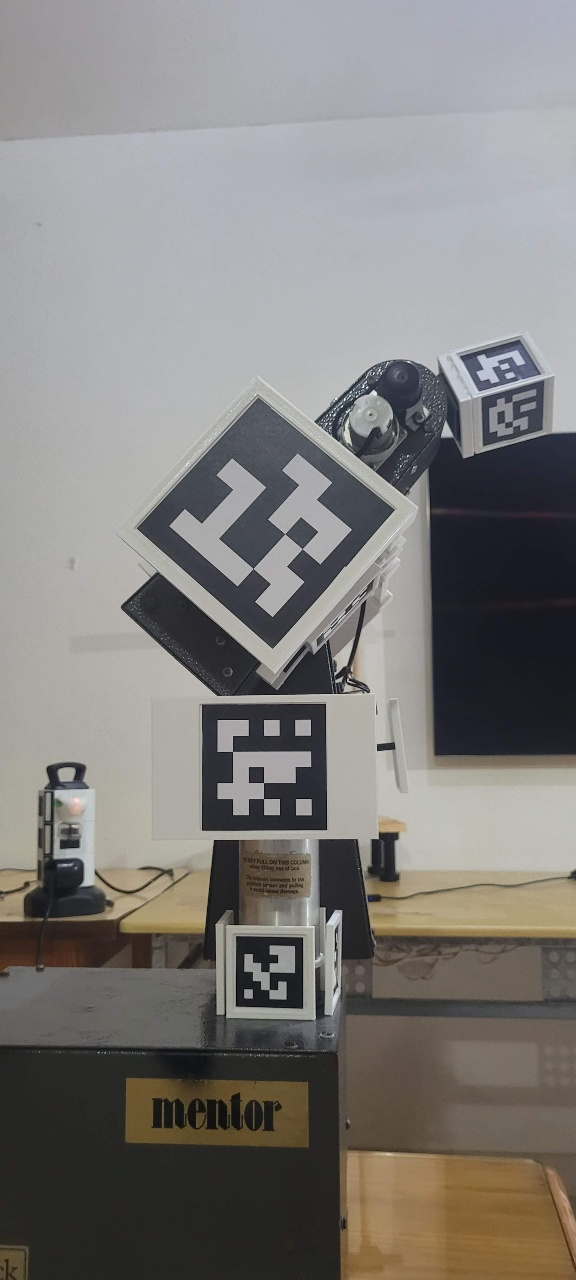Robot: (87, 362, 476, 1009)
